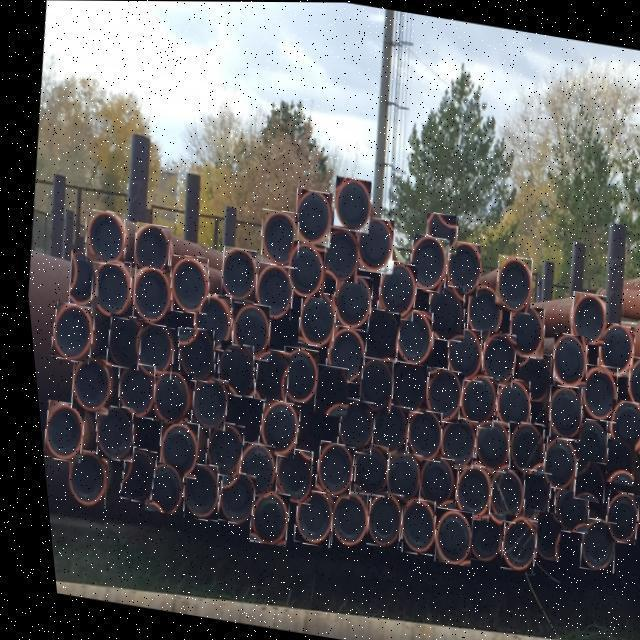pipe: (44, 301, 89, 364), (370, 259, 413, 321), (35, 400, 77, 463), (317, 324, 361, 384), (249, 398, 293, 458), (325, 271, 368, 332), (402, 233, 445, 293), (57, 448, 99, 508), (125, 321, 168, 379), (283, 488, 324, 548), (86, 259, 127, 319), (449, 371, 491, 429), (238, 488, 280, 546), (349, 215, 390, 274), (248, 261, 289, 320), (428, 414, 470, 471), (305, 441, 346, 499), (291, 290, 331, 349), (196, 419, 236, 478), (150, 420, 190, 479), (226, 301, 265, 361), (444, 463, 484, 521), (416, 366, 456, 424), (328, 397, 368, 455), (64, 356, 104, 414), (424, 507, 463, 566), (289, 188, 328, 247), (355, 490, 394, 549), (273, 345, 311, 405), (282, 241, 321, 299), (126, 266, 165, 324), (110, 445, 148, 504), (134, 460, 174, 516), (227, 441, 266, 498), (472, 329, 510, 387), (489, 515, 527, 573), (257, 209, 295, 267), (590, 321, 629, 377), (207, 470, 246, 526), (182, 375, 221, 431), (82, 210, 121, 266), (330, 176, 368, 233), (144, 369, 182, 426), (318, 225, 355, 283), (321, 490, 358, 548), (188, 293, 225, 351), (165, 256, 202, 314), (599, 399, 638, 454), (357, 307, 395, 363), (390, 309, 426, 368), (215, 246, 252, 303), (266, 447, 303, 504), (111, 361, 148, 418), (99, 313, 136, 370), (363, 401, 402, 455), (573, 364, 609, 422), (491, 255, 527, 313), (461, 282, 497, 340), (246, 348, 283, 404), (128, 222, 167, 275), (174, 463, 209, 522), (375, 449, 413, 503), (564, 291, 601, 346), (569, 517, 606, 572), (532, 436, 569, 490), (423, 284, 458, 341), (351, 356, 386, 413), (171, 328, 207, 383), (88, 405, 124, 460), (62, 250, 96, 308), (594, 490, 630, 544), (409, 454, 445, 508), (391, 498, 425, 555), (480, 468, 515, 523), (488, 378, 522, 434), (441, 240, 475, 296), (503, 304, 538, 358), (546, 333, 580, 388), (510, 350, 545, 403), (501, 421, 536, 474), (507, 468, 542, 521), (398, 408, 433, 461), (211, 343, 246, 396), (457, 509, 491, 563), (345, 443, 379, 497), (466, 420, 500, 473), (441, 327, 475, 380), (306, 364, 340, 417), (385, 362, 420, 413), (541, 385, 573, 440), (545, 480, 578, 532), (567, 418, 599, 471), (521, 510, 551, 561), (595, 437, 626, 485), (565, 459, 597, 502), (422, 213, 453, 253), (619, 356, 640, 410)
